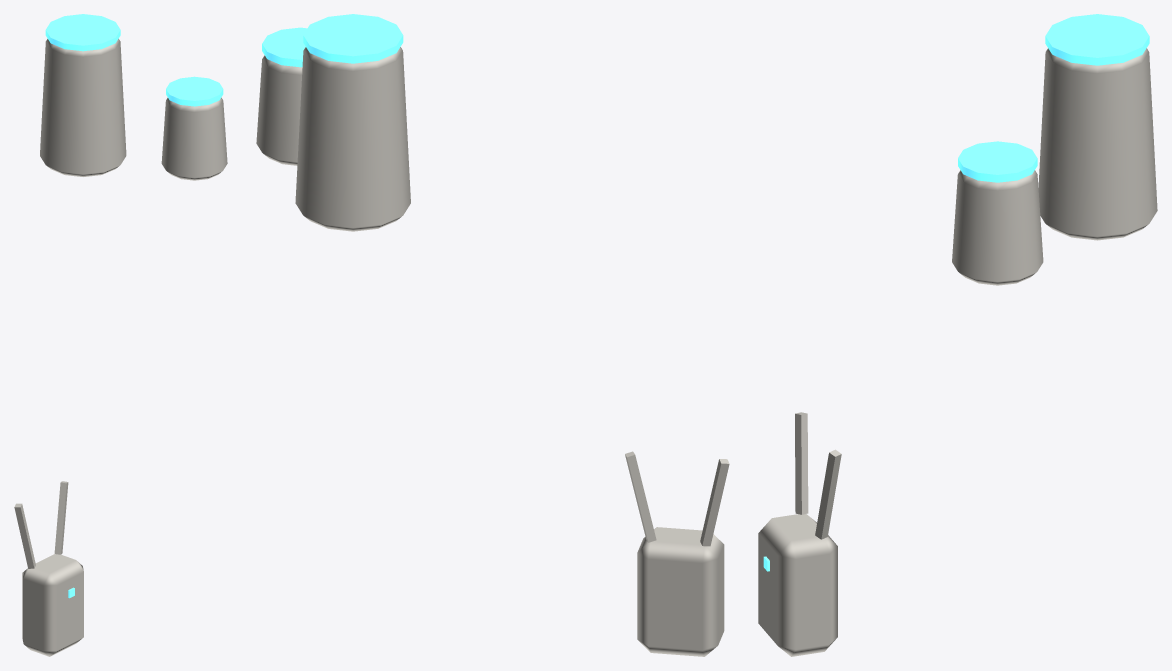
File: station_transport_ausstattung_1_2.glb
3 views of the same model, side by side, from view 1: azimuth 30°, elevation 25°; view 2: azimuth 150°, elevation 25°; view 3: azimuth 270°, elevation 25° (orthographic). The views are drawn at different scales.
Parts seen in each view (by area): view 1: station_transport_ausstattung_1_2; view 2: station_transport_ausstattung_1_2; view 3: station_transport_ausstattung_1_2.
Boxes of the visible parts, x1,y1,x2,y2 form: station_transport_ausstattung_1_2: [14, 14, 227, 656]; station_transport_ausstattung_1_2: [256, 14, 729, 656]; station_transport_ausstattung_1_2: [758, 14, 1157, 656].
Bounding box in the file's own units: 0.6291 × 1.09 × 0.5604.
